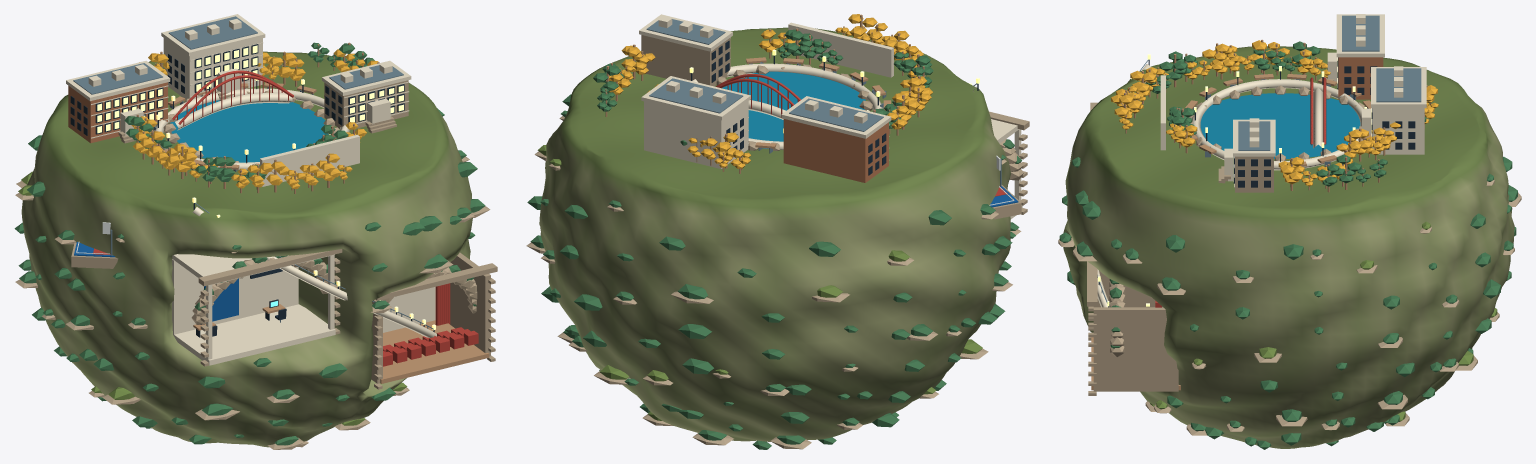
Rendered from university-low.glb.
3 renders of one model, left to right at view 1: azimuth 30°, elevation 25°; view 2: azimuth 150°, elevation 25°; view 3: azimuth 270°, elevation 25°, orthographic. The views are drawn at different scales.
Visible parts, largest first — view 1: campus_terrain, ivory, limestone, foliage, water, ginkgo, wood, red_bridge, graphite, steel, warm_lamps, campus_brick (+2 smaller); view 2: campus_terrain, ivory, foliage, limestone, ginkgo, campus_brick, water, steel, wood, campus_lawn, graphite, red_bridge; view 3: campus_terrain, limestone, foliage, ivory, ginkgo, water, steel, wood, graphite, campus_brick, campus_lawn, red_bridge.
Boxes of the visible parts, box(x1,y1,x2,y2) form: campus_terrain: box(21, 51, 472, 447); ivory: box(66, 14, 436, 365); limestone: box(15, 80, 497, 449); foliage: box(14, 42, 485, 445); water: box(170, 100, 328, 162); ginkgo: box(131, 49, 378, 188); wood: box(135, 42, 489, 383); red_bridge: box(93, 70, 478, 366); graphite: box(70, 44, 434, 337); steel: box(73, 16, 433, 329); warm_lamps: box(97, 45, 435, 330); campus_brick: box(68, 82, 167, 143); campus_terrain: box(539, 27, 1010, 441); ivory: box(639, 14, 1022, 219); foliage: box(527, 29, 1021, 449); limestone: box(526, 35, 1029, 449); ginkgo: box(609, 14, 933, 168); campus_brick: box(783, 119, 888, 182); water: box(722, 71, 865, 148); steel: box(646, 19, 1001, 186); wood: box(605, 14, 925, 173); campus_lawn: box(537, 145, 982, 420); graphite: box(691, 40, 978, 175); red_bridge: box(715, 74, 1007, 196); campus_terrain: box(1063, 46, 1514, 448); limestone: box(1058, 77, 1521, 435); foliage: box(1059, 41, 1517, 449); ivory: box(1097, 14, 1426, 307); ginkgo: box(1111, 40, 1438, 186); water: box(1200, 93, 1360, 158); steel: box(1097, 15, 1421, 306); wood: box(1091, 39, 1431, 390); graphite: box(1098, 57, 1415, 307); campus_brick: box(1338, 57, 1383, 99); campus_lawn: box(1150, 221, 1497, 421); red_bridge: box(1155, 77, 1326, 307).
Bounding box in the file's own units: 19.99 × 16.71 × 19.6.
